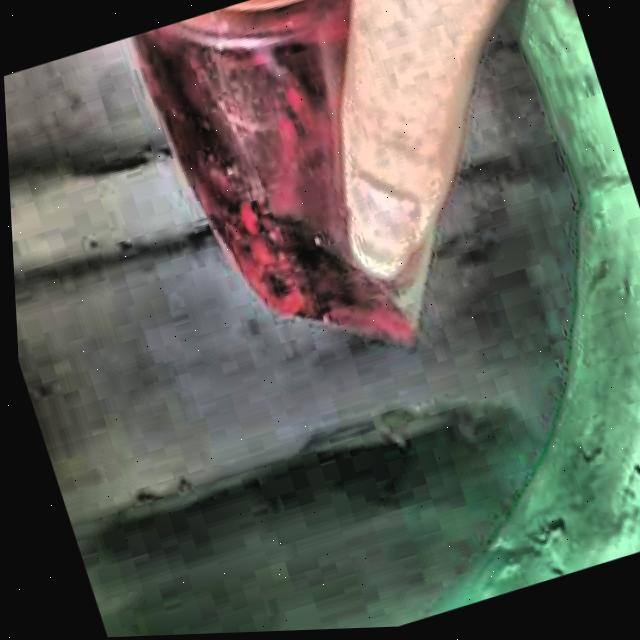glass: (133, 0, 425, 340)
